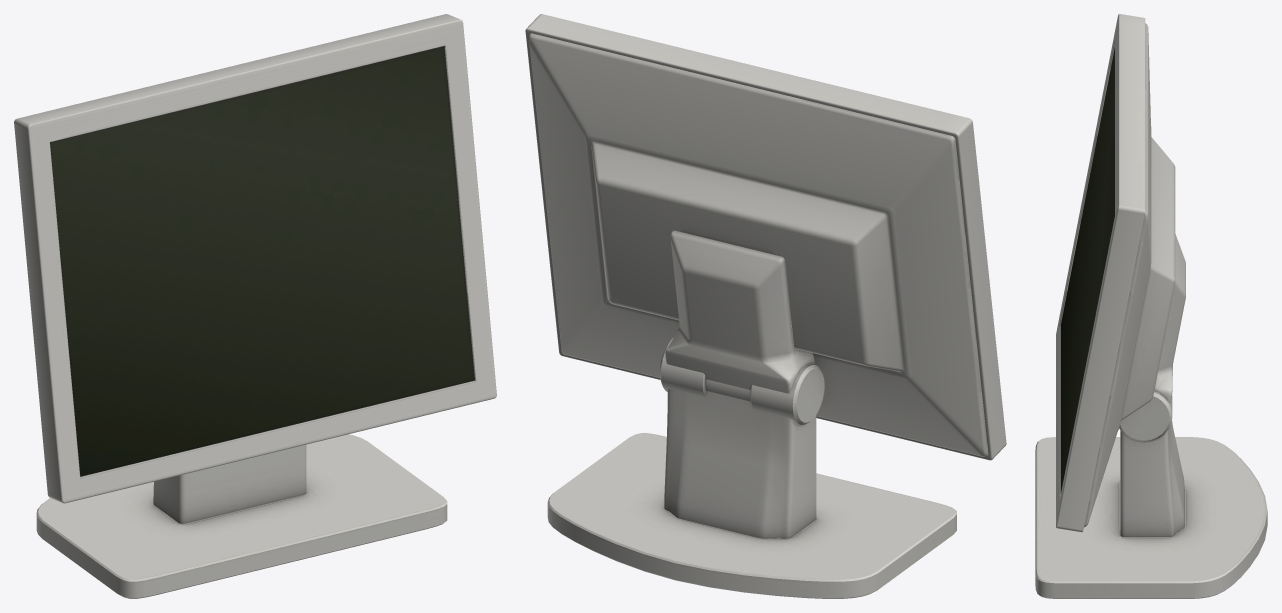
File: 15-Inch-SquareMonitor.fbx
3 views of the same model, side by side, from view 1: azimuth 30°, elevation 25°; view 2: azimuth 150°, elevation 25°; view 3: azimuth 270°, elevation 25° (orthographic). The views are drawn at different scales.
Visible parts, largest first — view 1: _15-Inch-SquareMonitor; view 2: _15-Inch-SquareMonitor; view 3: _15-Inch-SquareMonitor.
Boxes of the visible parts, <box> form: _15-Inch-SquareMonitor: <box>14,14,496,598</box>; _15-Inch-SquareMonitor: <box>525,14,1006,598</box>; _15-Inch-SquareMonitor: <box>1035,14,1267,598</box>.
Size of the model in its own units: 33.18 by 33.31 by 16.81.
1 material, 1 textured.
